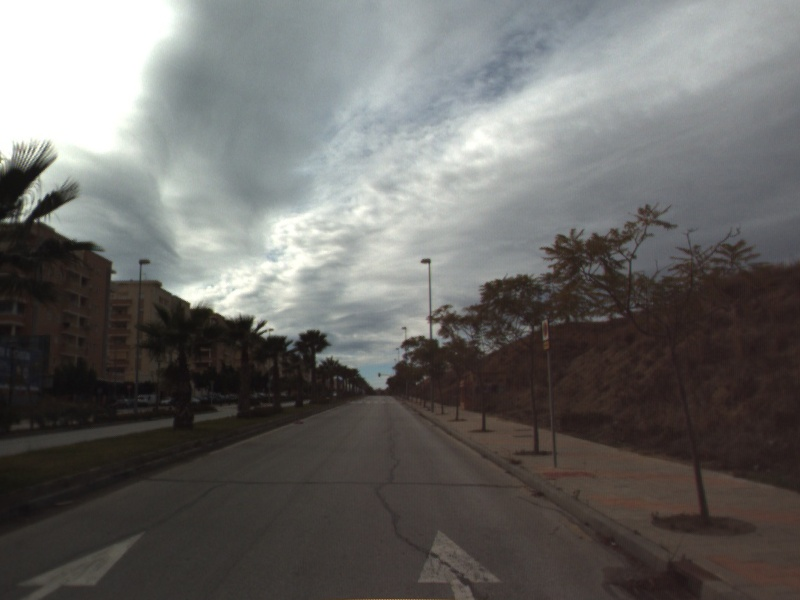STRAIGHT: (12, 528, 149, 600), (415, 527, 505, 600)
